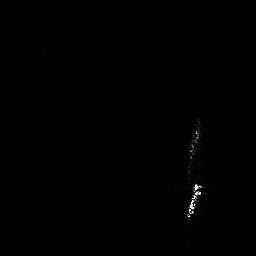ship: (185, 185, 201, 218)
